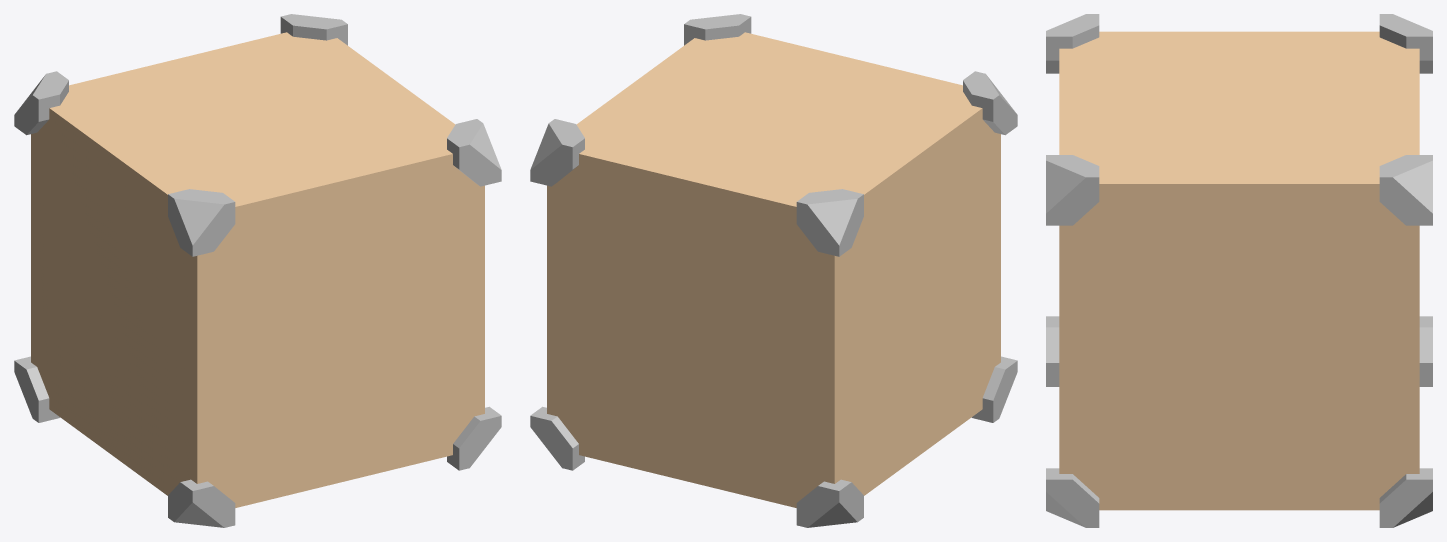
Rendered from box_orange.obj.
3 views of the same model, side by side, from view 1: azimuth 30°, elevation 25°; view 2: azimuth 150°, elevation 25°; view 3: azimuth 270°, elevation 25° (orthographic). The views are drawn at different scales.
Visible parts, largest first — view 1: _84, _85, _83, _74, _78, _75, _38, _35, _61, _72, _58, _69 (+5 smaller); view 2: _81, _85, _83, _46, _44, _60, _18, _16, _69, _58, _72, _61 (+5 smaller); view 3: _80, _83, _1, _3, _0, _2, _19, _21, _59, _70, _28, _31 (+4 smaller).
Boxes of the visible parts, x1,y1,x2,y2 form: _84: (197, 154, 484, 507); _85: (31, 108, 197, 495); _83: (50, 32, 455, 206); _74: (192, 202, 235, 256); _78: (192, 486, 235, 527); _75: (174, 199, 224, 245); _38: (459, 416, 501, 470); _35: (459, 144, 501, 186); _61: (14, 361, 38, 422); _72: (168, 194, 192, 256); _58: (14, 95, 38, 134); _69: (168, 482, 192, 521); _81: (547, 154, 834, 507); _85: (834, 108, 1000, 495); _83: (576, 32, 981, 206); _46: (796, 202, 839, 256); _44: (796, 486, 839, 527); _60: (807, 199, 857, 245); _18: (530, 416, 572, 470); _16: (530, 144, 572, 186); _69: (993, 361, 1017, 422); _58: (839, 194, 863, 256); _72: (993, 95, 1017, 134); _61: (839, 482, 863, 521); _80: (1059, 184, 1419, 510); _83: (1059, 31, 1419, 183); _1: (1379, 479, 1432, 527); _3: (1046, 479, 1099, 527); _0: (1379, 177, 1432, 225); _2: (1046, 177, 1099, 225); _19: (1393, 160, 1432, 213); _21: (1046, 160, 1085, 213); _59: (1379, 14, 1432, 36); _70: (1046, 14, 1099, 36); _28: (1379, 155, 1432, 177); _31: (1046, 155, 1099, 177).
Bounding box in the file's own units: 58 × 58 × 58.
